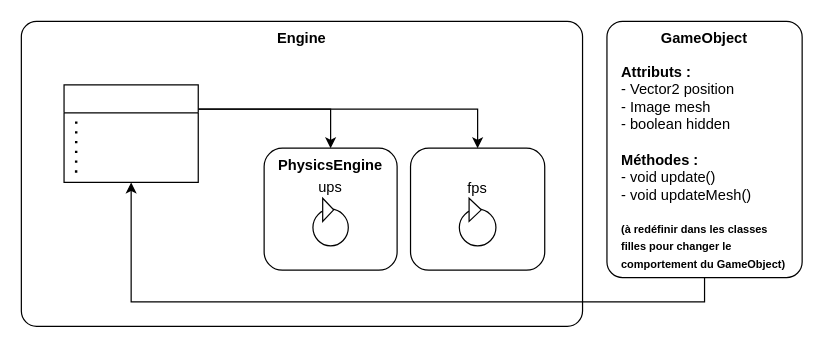
Image size: 824x348. Some labels were removed from this diagram. Here are the shapes that lost their labels. From the top down, the box of each, then its label:
(63, 84, 198, 182): GameObjects
(409, 147, 545, 270): GraphicsEngine
